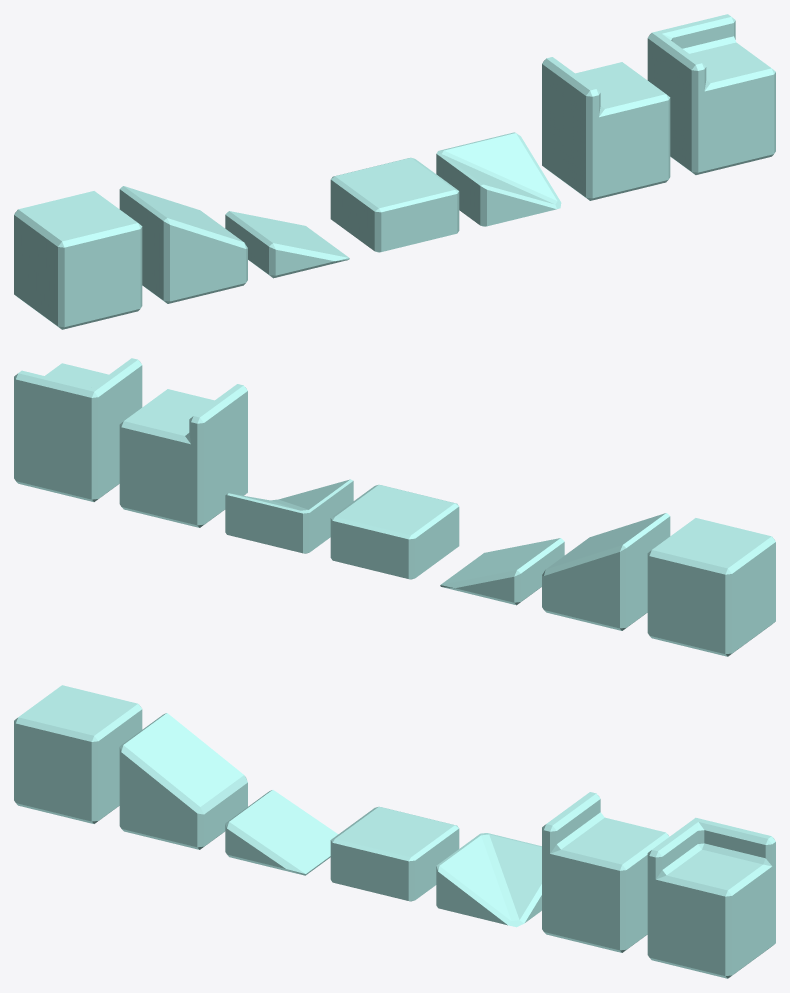
File: Platform1_blocks.glb
3 renders of one model, top to bottom at view 1: azimuth 30°, elevation 25°; view 2: azimuth 150°, elevation 25°; view 3: azimuth 330°, elevation 25°, orthographic.
Parts seen in each view (by area): view 1: CubeWall_corner, CubeWall, Cube, RampTop, CubeShort, RampLower_center, RampBottom; view 2: CubeWall, Cube, CubeWall_corner, RampTop, CubeShort, RampLower_center, RampBottom; view 3: CubeWall_corner, CubeWall, Cube, RampTop, CubeShort, RampLower_center, RampBottom.
Part boxes in pixels (x1,y1,x2,y2): CubeWall_corner: (647,14,775,174); CubeWall: (542,57,670,200); Cube: (14,191,142,329); RampTop: (119,186,247,303); CubeShort: (330,157,459,252); RampLower_center: (436,132,561,226); RampBottom: (225,211,349,278); CubeWall: (119,384,247,527); Cube: (647,518,775,656); CubeWall_corner: (14,358,142,501); RampTop: (542,513,670,630); CubeShort: (330,484,459,579); RampLower_center: (225,479,353,553); RampBottom: (440,538,564,605); CubeWall_corner: (647,817,775,978); CubeWall: (542,792,669,952); Cube: (14,685,142,823); RampTop: (119,713,247,849); CubeShort: (330,806,459,901); RampLower_center: (436,833,541,927); RampBottom: (225,790,338,875).
Size of what is drawn, in the model's own units: 17 by 2.5 by 2.
